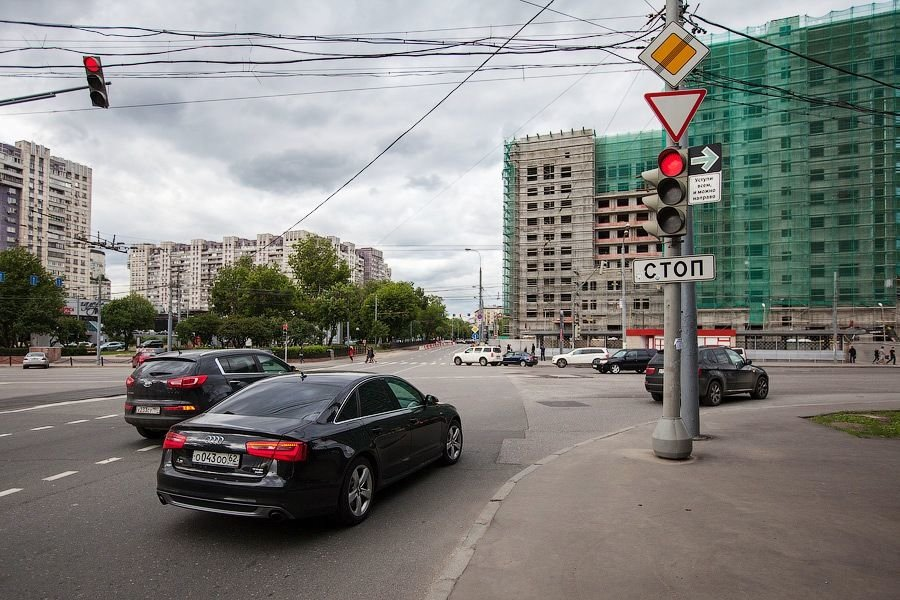tl: (640, 146, 688, 237), (83, 52, 112, 109)
